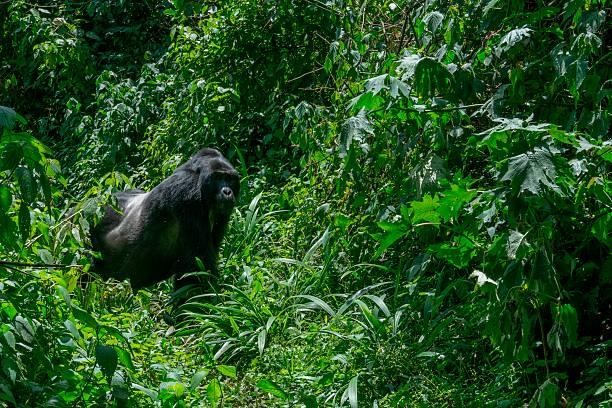goriile_montagne: (107, 143, 243, 291)
